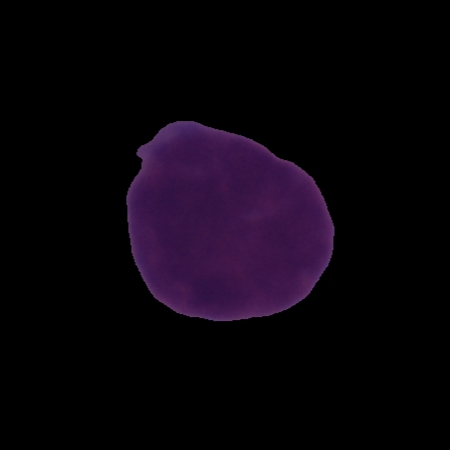ALL: (122, 116, 338, 325)
